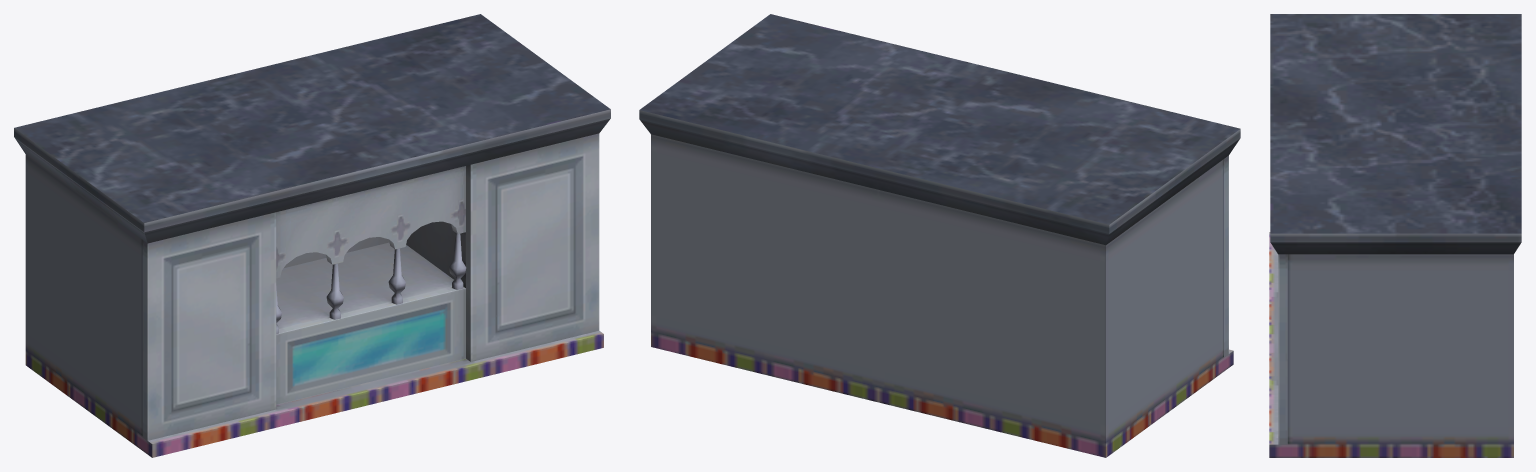
File: furni_0200620.FBX
3 views of the same model, side by side, from view 1: azimuth 30°, elevation 25°; view 2: azimuth 150°, elevation 25°; view 3: azimuth 270°, elevation 25° (orthographic). The views are drawn at different scales.
Parts seen in each view (by area): view 1: furni_0200620; view 2: furni_0200620; view 3: furni_0200620.
Boxes of the visible parts, x1,y1,x2,y2 form: furni_0200620: [14, 14, 610, 457]; furni_0200620: [639, 14, 1240, 457]; furni_0200620: [1269, 14, 1521, 457].
Size of the model in its own units: 165 by 79.79 by 80.04.
Materials: 1 (1 with a texture image).
